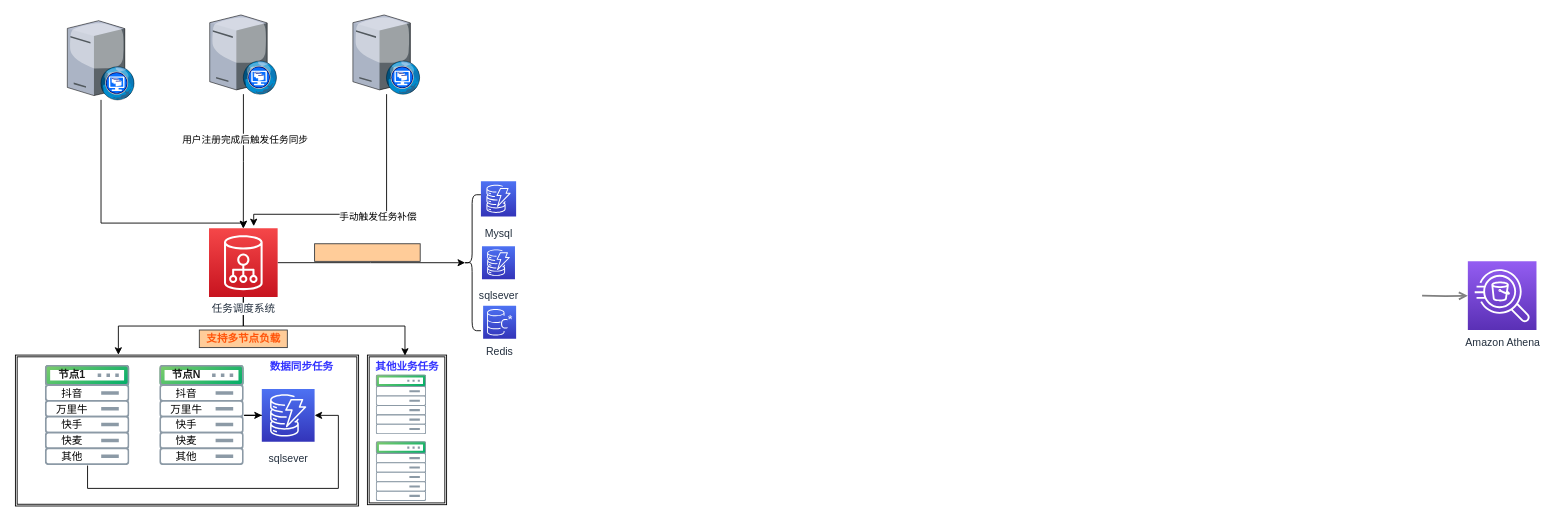
This 1555x522 diagram has some shape labels left out. The box of each missing label's shape, as (x1, y1, x2, y2) in pixels:
其他来源: (67, 20, 134, 99)
可扩展多个存储方式: (314, 243, 420, 261)
外部开发API接口: (352, 15, 420, 94)
外部站点: (209, 15, 277, 94)
